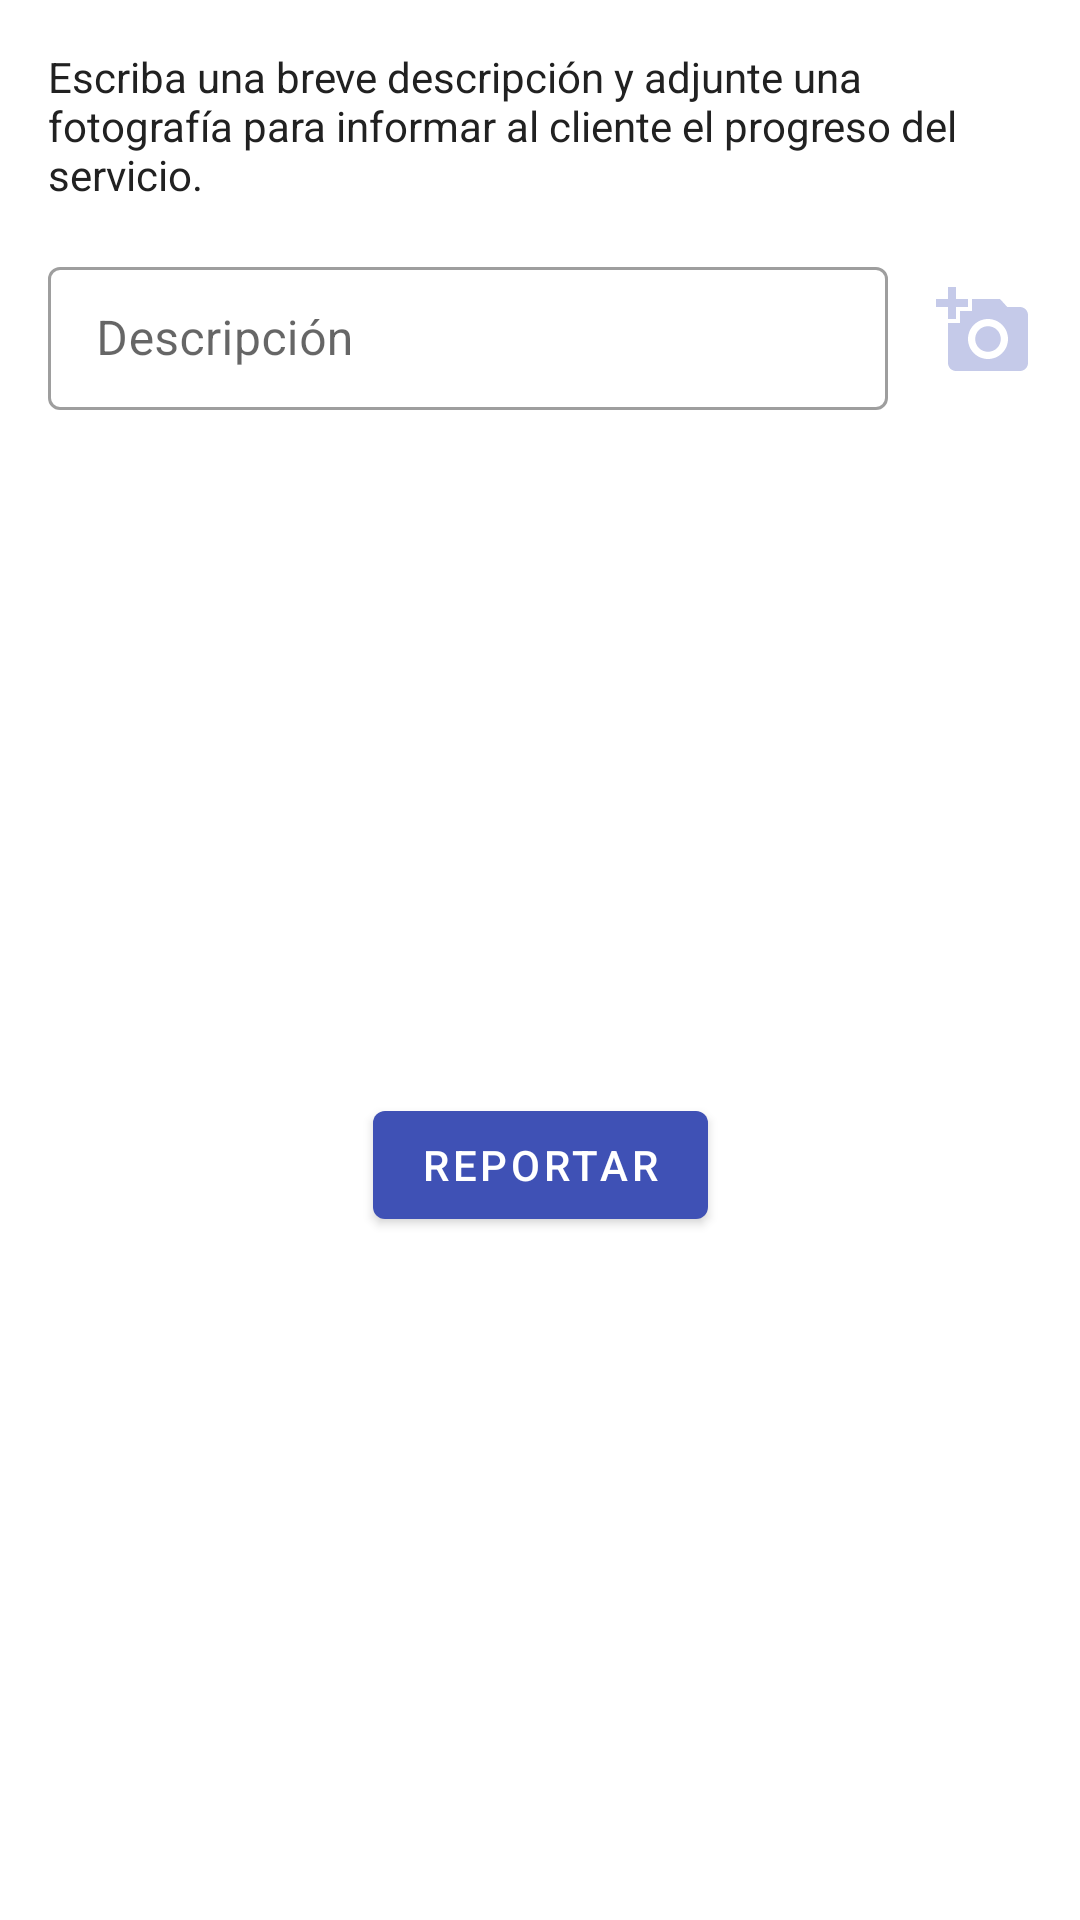

Where icons sit on this 1080 × 1920 app screen, as (x1, y1, x2, y2):
add photo: (936, 287, 1028, 371)
